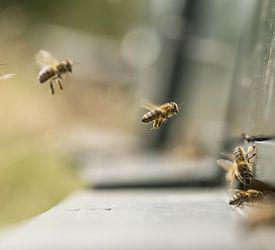bee: (39, 60, 72, 83), (141, 103, 178, 122), (230, 158, 251, 184), (234, 146, 252, 176), (229, 190, 263, 205)
